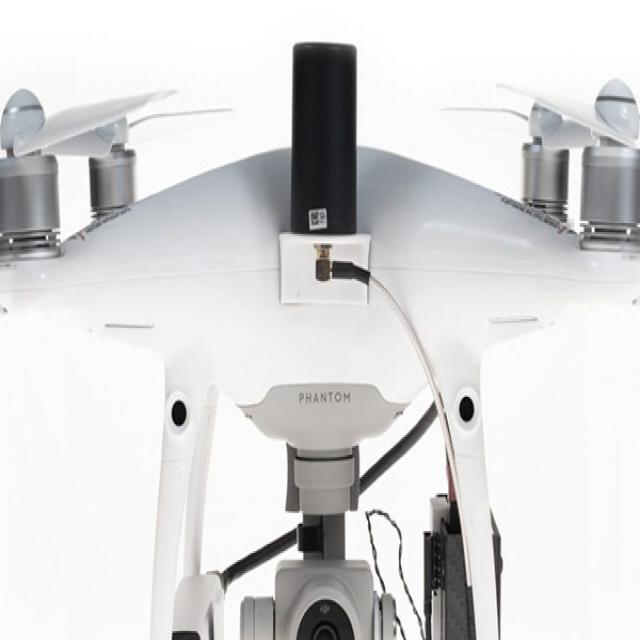drone: (0, 31, 640, 475)
